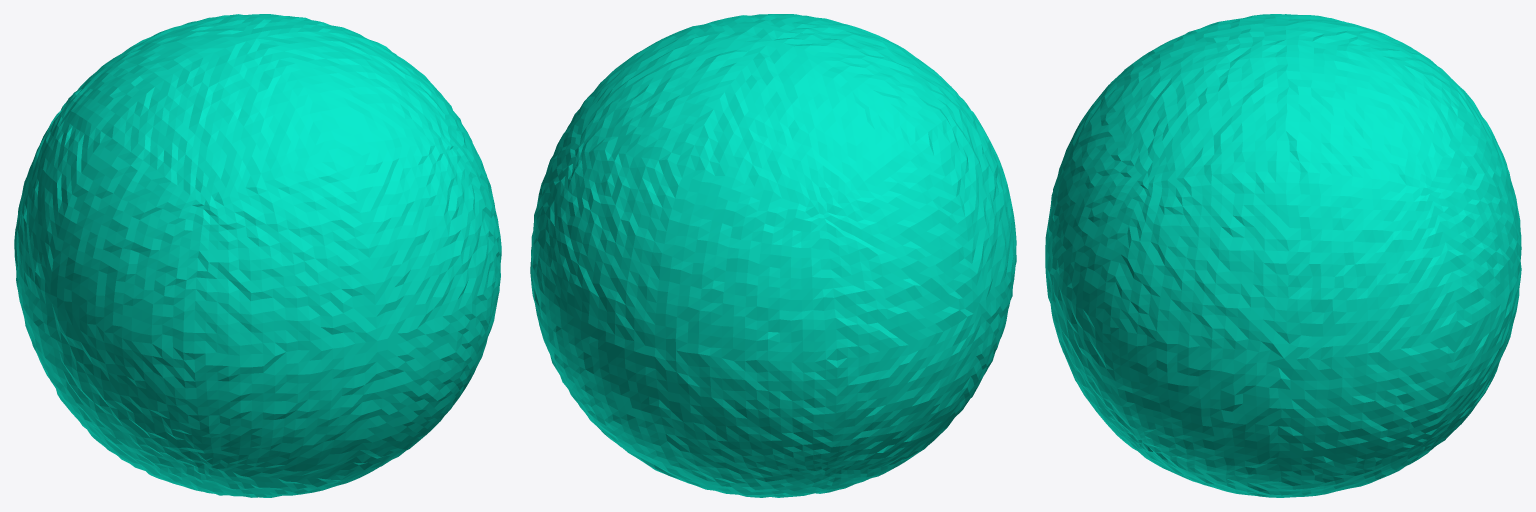
The model's file is Sea16.fbx.
The picture shows the model from 3 angles, left to right: view 1: azimuth 30°, elevation 25°; view 2: azimuth 150°, elevation 25°; view 3: azimuth 270°, elevation 25°; orthographic projection.
Visible parts, largest first — view 1: pCube1; view 2: pCube1; view 3: pCube1.
Part boxes in pixels (bbox=[...]): pCube1: bbox=[14, 14, 501, 497]; pCube1: bbox=[530, 14, 1016, 497]; pCube1: bbox=[1045, 14, 1521, 497].
Size of the model in its own units: 40.11 by 40.09 by 40.06.
